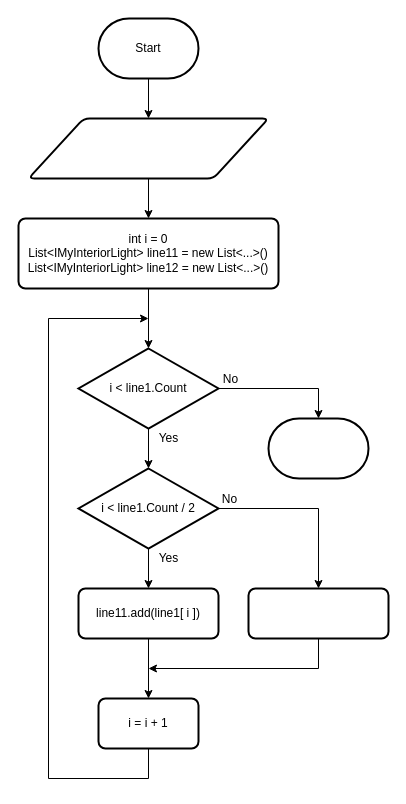
The diagram is 406 pixels wide and 804 high, and some of its shapes have lost their labels. The centre of each missing label's shape, as x and y in pixels:
"End" goes at point (318, 448).
"line12.add( line1 [ i ])" goes at point (318, 613).
"List<IMyInteriorLight> line1" goes at point (148, 148).
